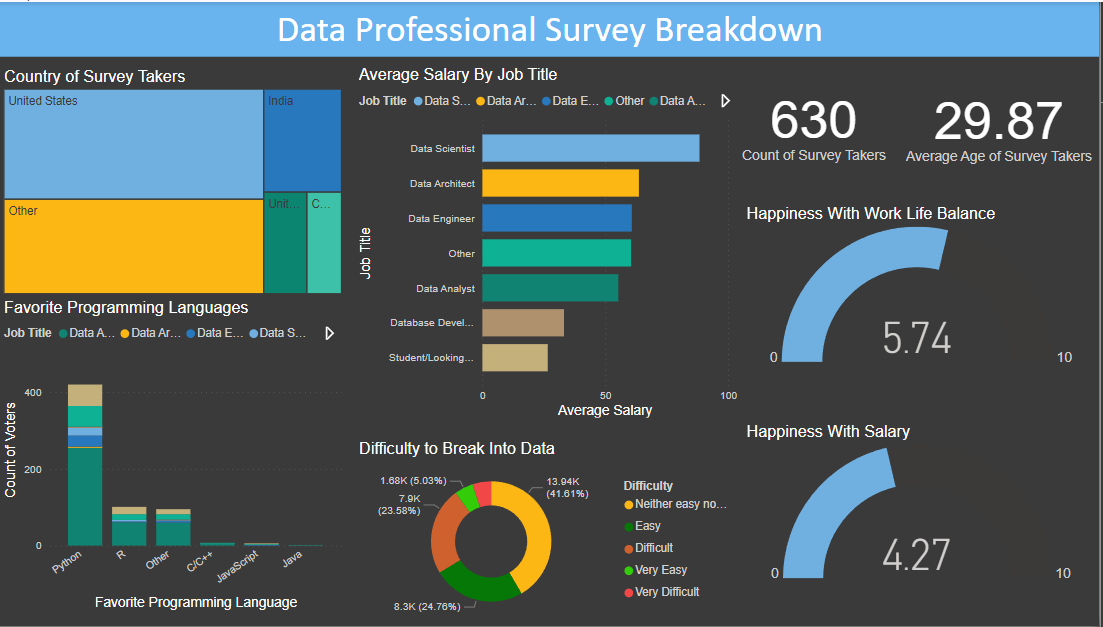

Layout of this report page (visuals, bound fields, positions):
{"tool":"powerbi","page":{"name":"Page 1","canvas":[1280,720],"ordinal":0},"visuals":[{"type":"textbox","box":[10,0,280,280],"z":0},{"type":"textbox","box":[10.1,0,1270.2,63.5],"z":1},{"type":"card","fields":{"Values":["Count(Data Professional Survey.Unique ID)"]},"box":[853,73.6,194.9,132.8],"z":2},{"type":"card","fields":{"Values":["Avg(Data Professional Survey.Q10 - Current Age)"]},"box":[1047.9,73.6,232.4,134.2],"z":3},{"type":"barChart","title":"Average Salary By Job Title","fields":{"Category":["Data Professional Survey.Q1 - Which Title Best Fits your Current Role?.1"],"Y":["Avg(Data Professional Survey.Average Salary)"],"Series":["Data Professional Survey.Q1 - Which Title Best Fits your Current Role?.1"]},"box":[420,73.6,447.5,411.4],"z":4},{"type":"columnChart","title":"Favorite Programming Languages","fields":{"Category":["Data Professional Survey.Q5 - Favorite Programming Language.1"],"Y":["CountNonNull(Data Professional Survey.Unique ID)"],"Series":["Data Professional Survey.Q1 - Which Title Best Fits your Current Role?.1"]},"box":[10.1,342.1,399.8,365.2],"z":5},{"type":"treemap","title":"Country of Survey Takers","fields":{"Group":["Data Professional Survey.Q11 - Which Country do you live in?.1"],"Values":["CountNonNull(Data Professional Survey.Q11 - Which Country do you live in?.1)"]},"box":[10.1,75.1,399.8,267],"z":6},{"type":"gauge","title":"Happiness With Work Life Balance","fields":{"Y":["Avg(Data Professional Survey.Q6 - How Happy are you in your Current Position with the following? (Work/Life Balance))"],"MinValue":["Min(Data Professional Survey.Q6 - How Happy are you in your Current Position with the following? (Work/Life Balance))1"],"MaxValue":["Max(Data Professional Survey.Q6 - How Happy are you in your Current Position with the following? (Work/Life Balance))2"]},"box":[867.5,233.8,412.8,192],"z":7},{"type":"gauge","title":"Happiness With Salary","fields":{"Y":["Avg(Data Professional Survey.Q6 - How Happy are you in your Current Position with the following? (Salary))"],"MinValue":["Min(Data Professional Survey.Q6 - How Happy are you in your Current Position with the following? (Salary))"],"MaxValue":["Max(Data Professional Survey.Q6 - How Happy are you in your Current Position with the following? (Salary))"]},"box":[867.5,485,412.8,190.5],"z":8},{"type":"donutChart","title":"Difficulty to Break Into Data","fields":{"Category":["Data Professional Survey.Q7 - How difficult was it for you to break into Data?"],"Y":["Sum(Data Professional Survey.Average Salary)"]},"box":[420,505.2,447.5,215.1],"z":9}]}

Visuals, with their boxes in screenshot pixels (x1, y1, x2, y2), scaled from the page's 1280x720 canvas onto the 1103x627 screenshot:
textbox: Rect(9, 0, 250, 244)
textbox: Rect(9, 0, 1102, 55)
card - Count(Data Professional Survey.Unique ID): Rect(735, 64, 903, 180)
card - Avg(Data Professional Survey.Q10 - Current Age): Rect(903, 64, 1102, 181)
"Average Salary By Job Title" barChart: Rect(362, 64, 748, 422)
"Favorite Programming Languages" columnChart: Rect(9, 298, 353, 616)
"Country of Survey Takers" treemap: Rect(9, 65, 353, 298)
"Happiness With Work Life Balance" gauge: Rect(748, 204, 1102, 371)
"Happiness With Salary" gauge: Rect(748, 422, 1102, 588)
"Difficulty to Break Into Data" donutChart: Rect(362, 440, 748, 626)
